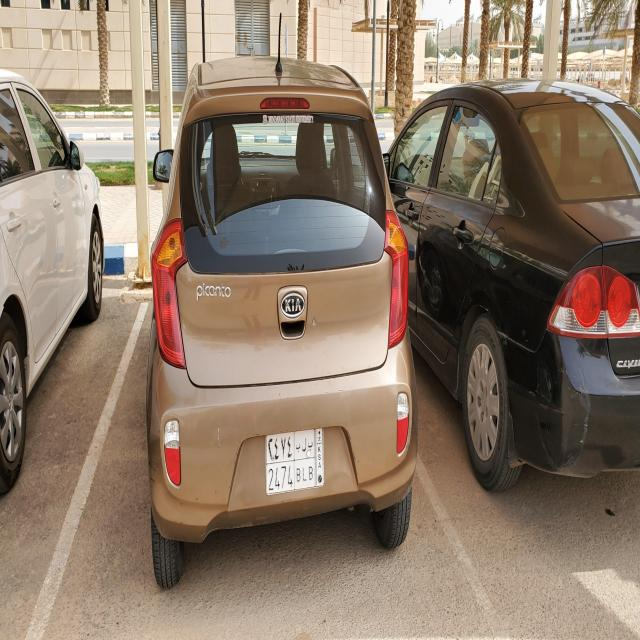license_plate: (265, 428, 325, 495)
